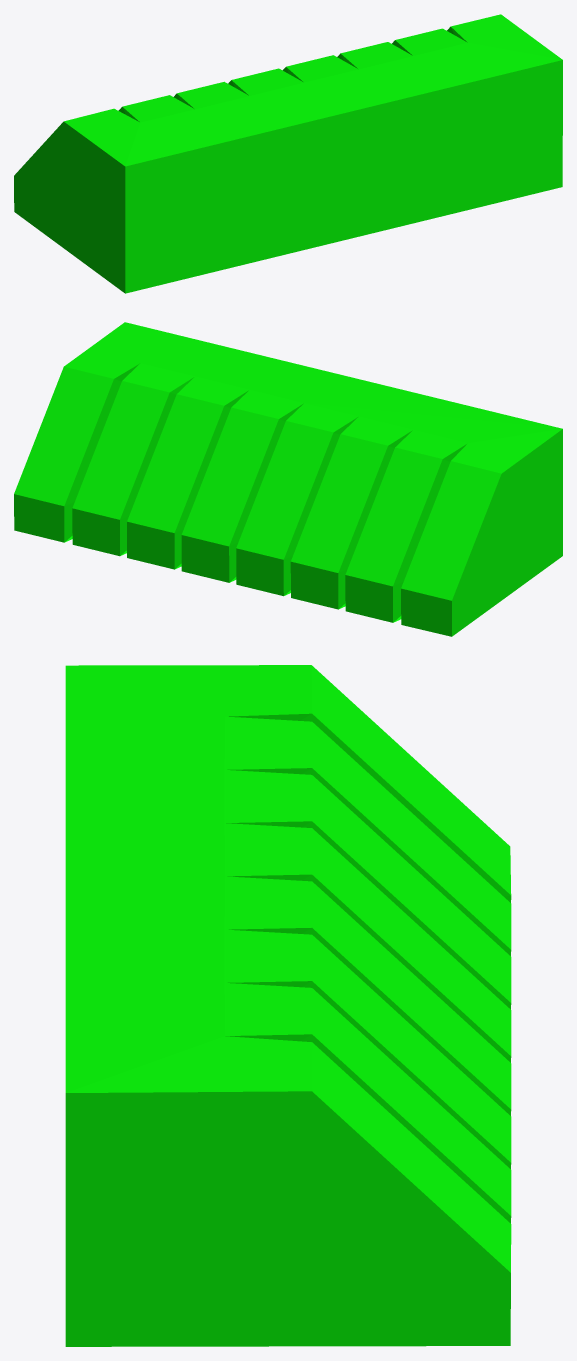
Rendered from SM_Stand_Collider.fbx.
The picture shows the model from 3 angles, top to bottom: view 1: azimuth 30°, elevation 25°; view 2: azimuth 150°, elevation 25°; view 3: azimuth 270°, elevation 25°; orthographic projection. The views are drawn at different scales.
Parts seen in each view (by area): view 1: SM_Stand_Collider; view 2: SM_Stand_Collider; view 3: SM_Stand_Collider.
Part boxes in pixels (x1,y1,x2,y2): SM_Stand_Collider: [14, 14, 562, 293]; SM_Stand_Collider: [14, 322, 562, 636]; SM_Stand_Collider: [65, 665, 511, 1346].
Size of the model in its own units: 52.47 by 14.84 by 23.11.
